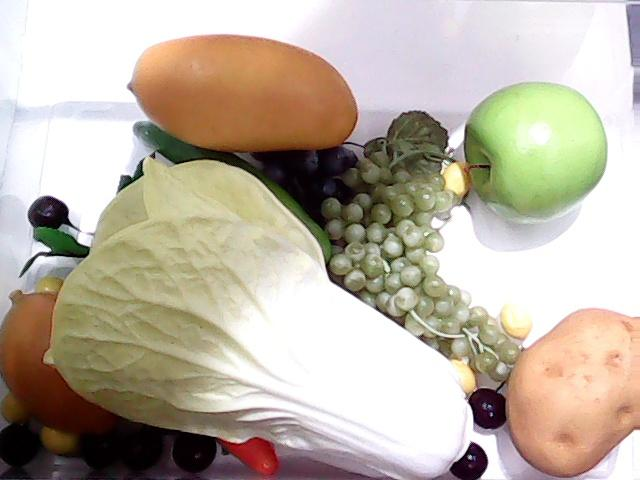apple: (459, 79, 609, 229)
carrot: (218, 428, 278, 480)
grape: (290, 144, 522, 384), (249, 144, 361, 232)
lemon: (1, 288, 115, 430)
mango: (125, 29, 363, 156)
napa cabbage: (42, 158, 464, 480)
pepper: (130, 119, 330, 273)
potato: (504, 303, 640, 477)
